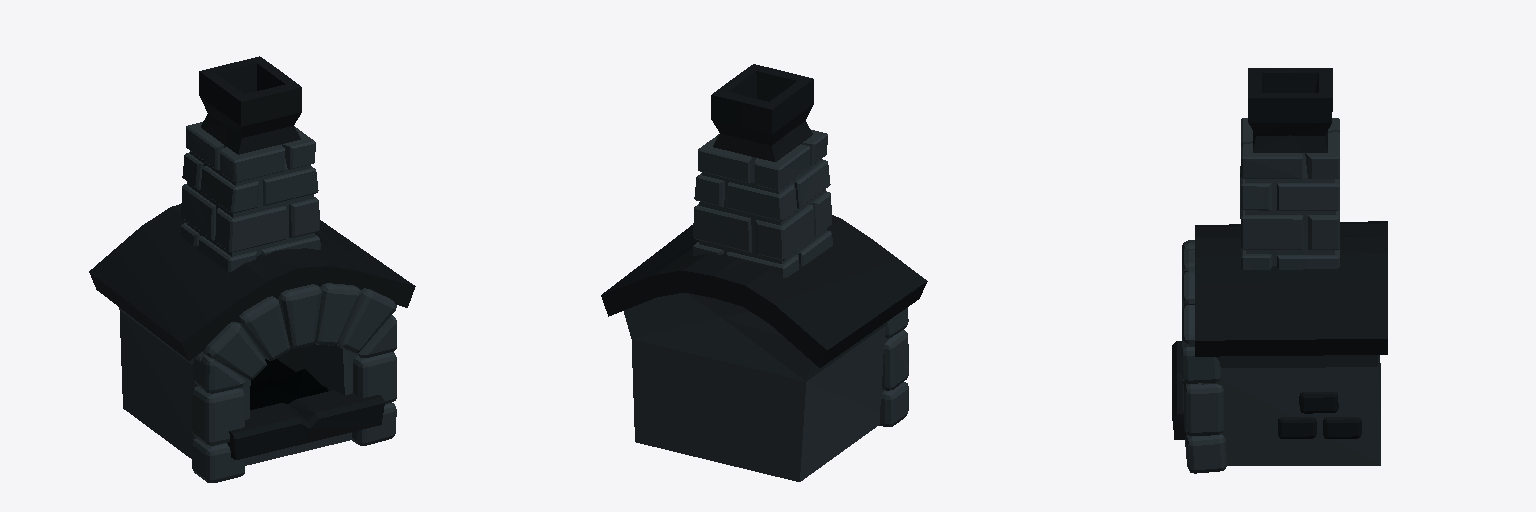
The model's file is forge.obj.
3 renders of one model, left to right at view 1: azimuth 30°, elevation 25°; view 2: azimuth 150°, elevation 25°; view 3: azimuth 270°, elevation 25°, orthographic.
Parts seen in each view (by area): view 1: forge_Cube.040; view 2: forge_Cube.040; view 3: forge_Cube.040.
Boxes of the visible parts, x1=… form: forge_Cube.040: x1=89, y1=56, x2=415, y2=482; forge_Cube.040: x1=601, y1=64, x2=927, y2=481; forge_Cube.040: x1=1172, y1=68, x2=1387, y2=473.
Bounding box in the file's own units: 1.67 × 2.36 × 1.33.